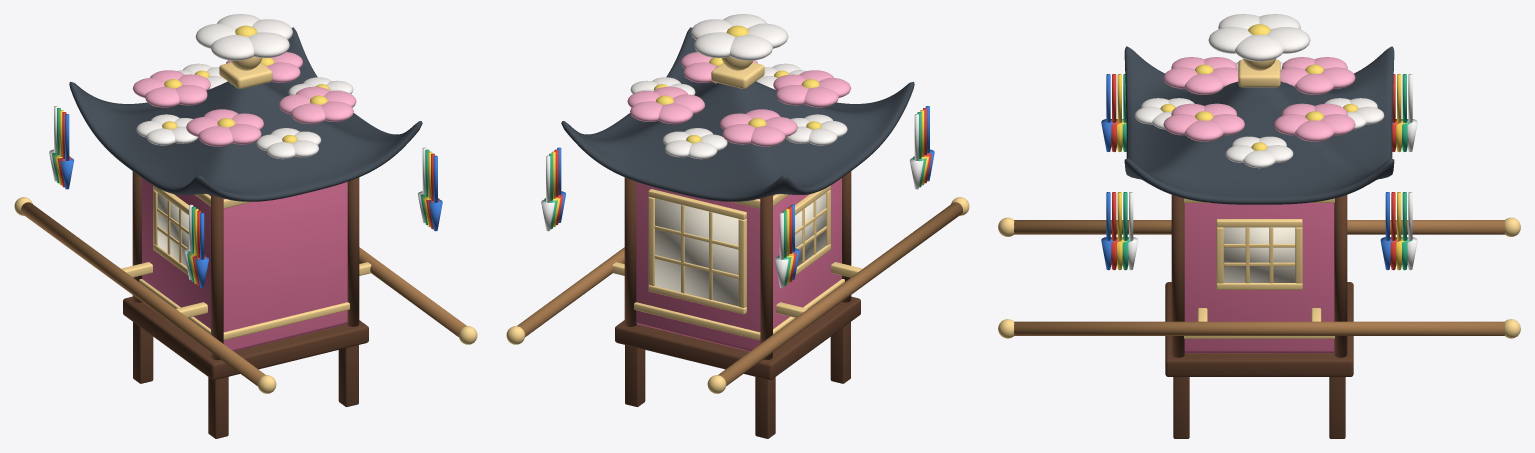
The model's file is kkotgama.glb.
3 views of the same model, side by side, from view 1: azimuth 30°, elevation 25°; view 2: azimuth 150°, elevation 25°; view 3: azimuth 270°, elevation 25° (orthographic). The views are drawn at different scales.
Visible parts, largest first — view 1: Gama.001, Flower0, Flower4, Flower2, Flower3, Flower8, Tassel0, Tassel1, Tassel3, Flower7, Flower1, Flower6 (+1 smaller); view 2: Gama.001, Flower0, Flower2, Flower4, Flower1, Flower5, Tassel2, Tassel3, Tassel0, Flower7, Flower3, Flower6 (+1 smaller); view 3: Gama.001, Flower0, Flower1, Flower3, Flower2, Flower4, Tassel1, Tassel2, Flower6, Tassel0, Tassel3, Flower5 (+1 smaller).
Boxes of the visible parts, left/top/right/bottom form: Gama.001: left=14, top=27, right=477, bottom=438; Flower0: left=195, top=14, right=292, bottom=60; Flower4: left=186, top=109, right=263, bottom=146; Flower2: left=132, top=70, right=210, bottom=107; Flower3: left=279, top=86, right=356, bottom=124; Flower8: left=256, top=128, right=321, bottom=159; Tassel0: left=184, top=204, right=208, bottom=288; Tassel1: left=418, top=147, right=442, bottom=231; Tassel3: left=49, top=106, right=74, bottom=189; Flower7: left=136, top=114, right=198, bottom=145; Flower1: left=226, top=52, right=303, bottom=83; Flower6: left=288, top=77, right=353, bottom=95; Gama.001: left=506, top=27, right=969, bottom=438; Flower0: left=691, top=14, right=788, bottom=60; Flower2: left=720, top=109, right=797, bottom=146; Flower4: left=773, top=70, right=851, bottom=107; Flower1: left=627, top=86, right=704, bottom=124; Flower5: left=662, top=128, right=727, bottom=159; Tassel2: left=541, top=147, right=565, bottom=231; Tassel3: left=775, top=204, right=799, bottom=288; Tassel0: left=909, top=106, right=934, bottom=189; Flower7: left=785, top=114, right=847, bottom=145; Flower3: left=680, top=52, right=757, bottom=83; Flower6: left=630, top=77, right=695, bottom=95; Gama.001: left=998, top=46, right=1520, bottom=438; Flower0: left=1208, top=14, right=1310, bottom=61; Flower1: left=1274, top=103, right=1355, bottom=141; Flower3: left=1163, top=103, right=1244, bottom=141; Flower2: left=1280, top=57, right=1355, bottom=94; Flower4: left=1163, top=57, right=1238, bottom=94; Tassel1: left=1101, top=192, right=1138, bottom=270; Tassel2: left=1380, top=192, right=1417, bottom=270; Flower6: left=1225, top=136, right=1293, bottom=168; Tassel0: left=1101, top=74, right=1126, bottom=151; Tassel3: left=1392, top=74, right=1417, bottom=151; Flower5: left=1324, top=98, right=1384, bottom=129.
Bounding box in the file's own units: 1.81 × 2.56 × 3.22.
